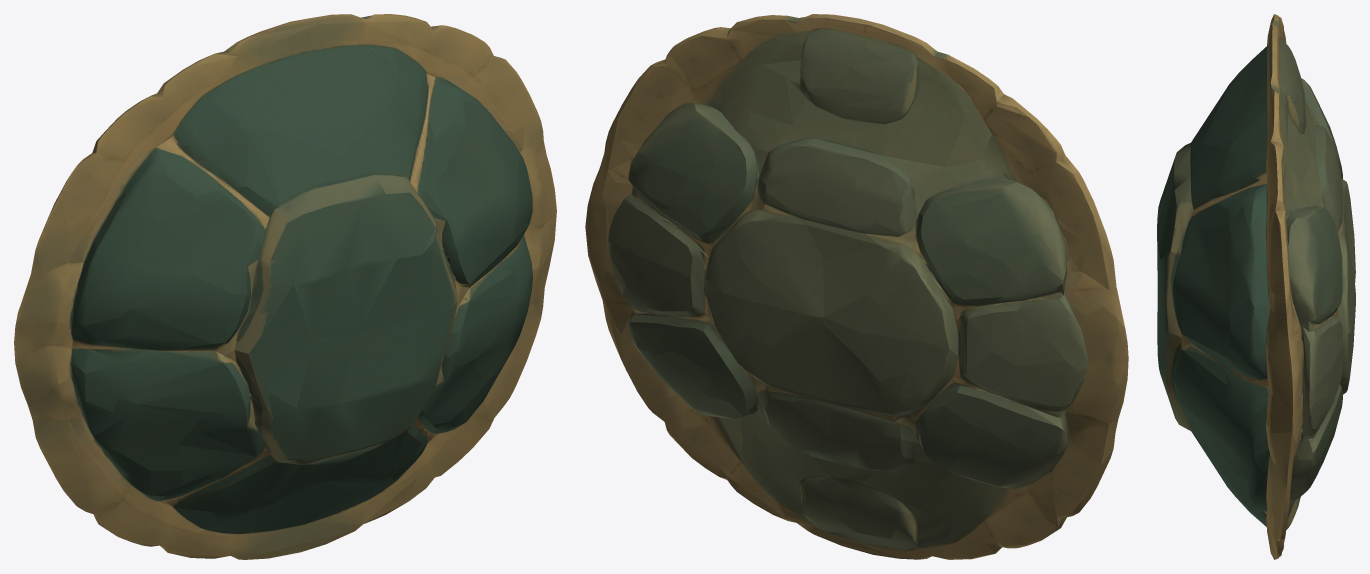
File: shell-fit.glb
The picture shows the model from 3 angles, left to right: view 1: azimuth 30°, elevation 25°; view 2: azimuth 150°, elevation 25°; view 3: azimuth 270°, elevation 25°; orthographic projection. The views are drawn at different scales.
Parts seen in each view (by area): view 1: Mesh_0; view 2: Mesh_0; view 3: Mesh_0.
Boxes of the visible parts, bbox=[...] form: Mesh_0: bbox=[14, 14, 556, 559]; Mesh_0: bbox=[585, 14, 1128, 559]; Mesh_0: bbox=[1157, 14, 1355, 559].
Size of the model in its own units: 0.78 by 0.73 by 0.27.
1 material, 1 textured.
